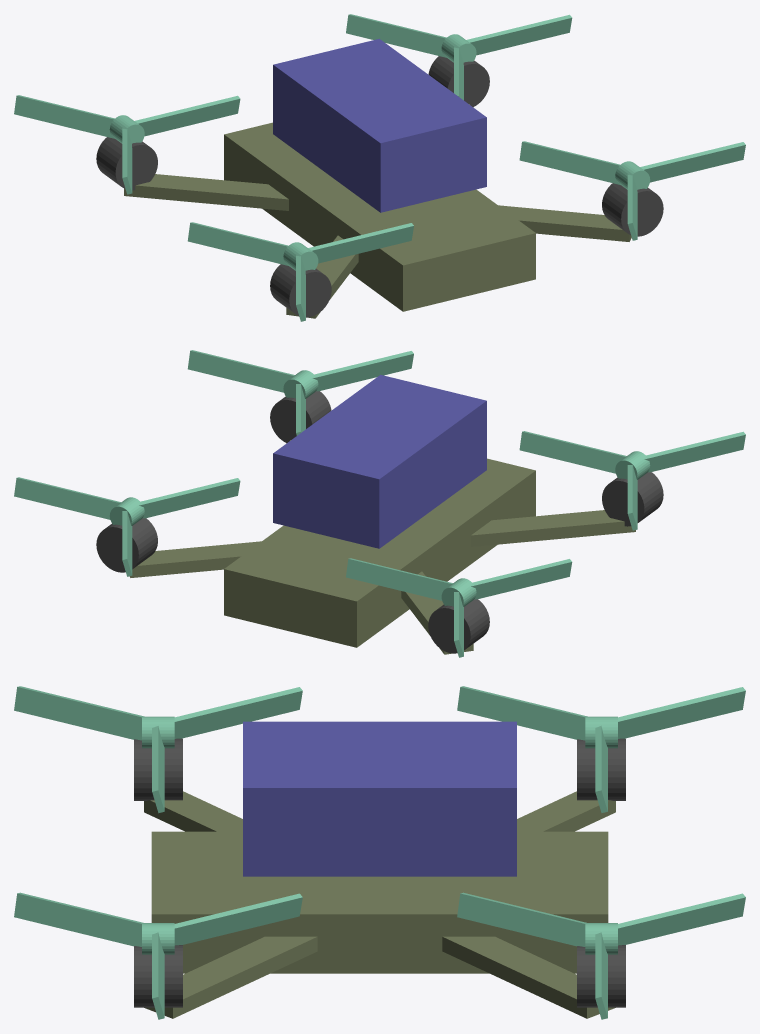
File: Armattan Badger.glb
The picture shows the model from 3 angles, top to bottom: view 1: azimuth 30°, elevation 25°; view 2: azimuth 150°, elevation 25°; view 3: azimuth 270°, elevation 25°; orthographic projection. The views are drawn at different scales.
Visible parts, largest first — view 1: battery, frame_body, prop_3, prop_0, prop_2, prop_1, arm_3, arm_0, motor_0, motor_2, motor_3, motor_1 (+1 smaller); view 2: battery, frame_body, prop_1, prop_2, prop_3, prop_0, arm_2, arm_1, motor_1, motor_3, motor_2, motor_0 (+1 smaller); view 3: battery, frame_body, prop_2, prop_0, prop_1, prop_3, arm_1, arm_0, arm_2, arm_3, motor_0, motor_1 (+2 smaller).
Boxes of the visible parts, x1,y1,x2,y2 form: battery: (273, 38, 486, 212); frame_body: (224, 122, 535, 311); prop_3: (14, 95, 240, 194); prop_0: (519, 141, 745, 240); prop_2: (187, 222, 413, 321); prop_1: (346, 14, 572, 100); arm_3: (124, 174, 288, 210); arm_0: (498, 205, 631, 241); motor_0: (602, 183, 663, 236); motor_2: (270, 264, 331, 317); motor_3: (96, 137, 157, 190); motor_1: (428, 56, 489, 107); battery: (273, 374, 486, 548); frame_body: (224, 458, 535, 647); prop_1: (14, 477, 240, 576); prop_2: (519, 431, 745, 530); prop_3: (346, 558, 572, 657); prop_0: (187, 350, 413, 435); arm_2: (471, 510, 635, 546); arm_1: (129, 541, 261, 577); motor_1: (96, 518, 157, 572); motor_3: (428, 599, 489, 653); motor_2: (602, 472, 663, 526); motor_0: (270, 391, 331, 443); battery: (243, 721, 516, 876); frame_body: (151, 831, 608, 973); prop_2: (14, 686, 302, 813); prop_0: (14, 892, 302, 1019); prop_1: (457, 892, 745, 1019); prop_3: (457, 686, 745, 812); arm_1: (442, 936, 615, 1018); arm_0: (144, 936, 317, 1018); arm_2: (144, 791, 242, 831); arm_3: (517, 791, 615, 831); motor_0: (134, 945, 182, 1007); motor_1: (577, 945, 625, 1007).
Size of the model in its own units: 0.2265 by 0.06 by 0.2243.
